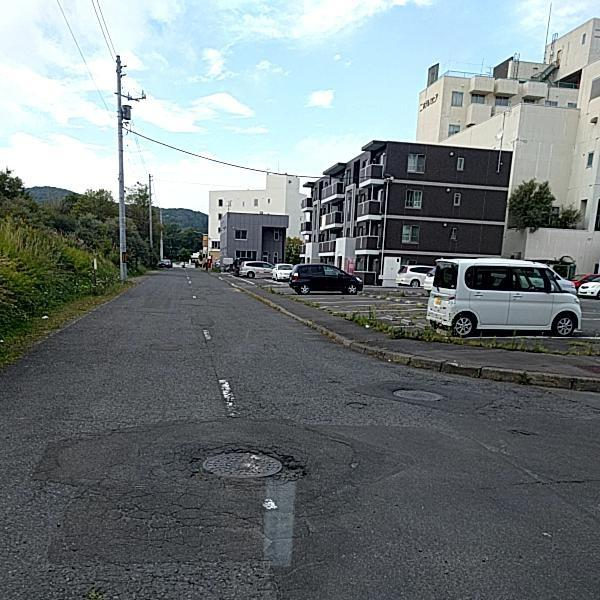pothole: (247, 451, 304, 482), (349, 401, 365, 407)
